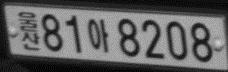0: (166, 20, 187, 60)
1: (63, 14, 84, 53)
2: (141, 18, 164, 58)
8: (189, 21, 212, 62), (116, 17, 140, 56), (41, 13, 63, 51)
아: (87, 18, 110, 53)
울산_V: (17, 10, 41, 50)
